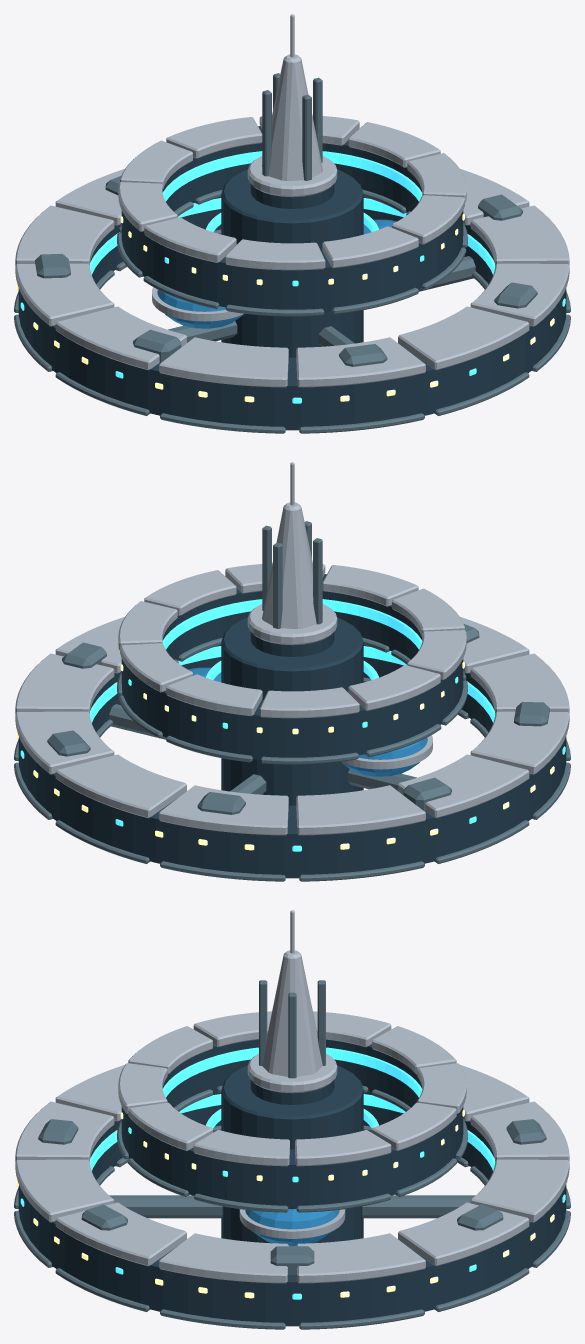
File: colony_ring_lv3.glb
3 renders of one model, top to bottom at view 1: azimuth 30°, elevation 25°; view 2: azimuth 150°, elevation 25°; view 3: azimuth 270°, elevation 25°, orthographic.
Visible parts, largest first — view 1: Structure; view 2: Structure; view 3: Structure.
Boxes of the visible parts, x1,y1,x2,y2 form: Structure: [14, 14, 570, 433]; Structure: [14, 462, 570, 881]; Structure: [14, 910, 570, 1329].
Bounding box in the file's own units: 8.23 × 5.38 × 8.23.
